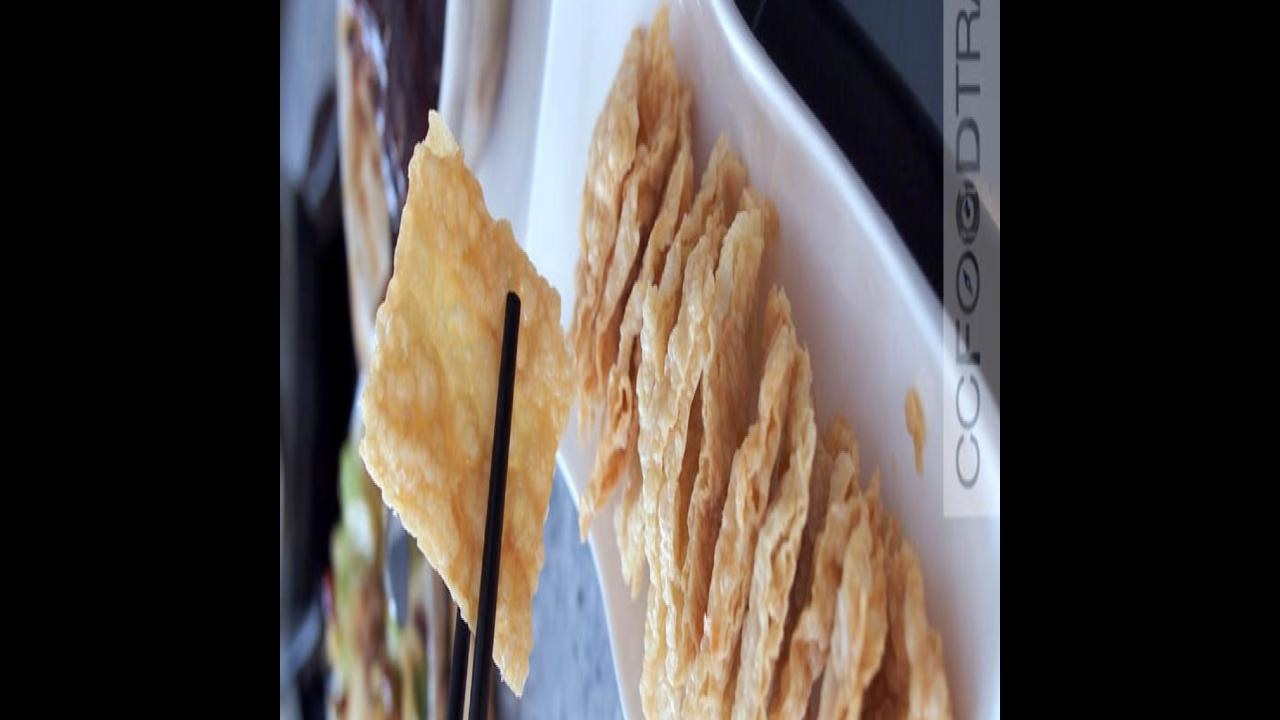chopstick: (420, 292, 522, 720)
